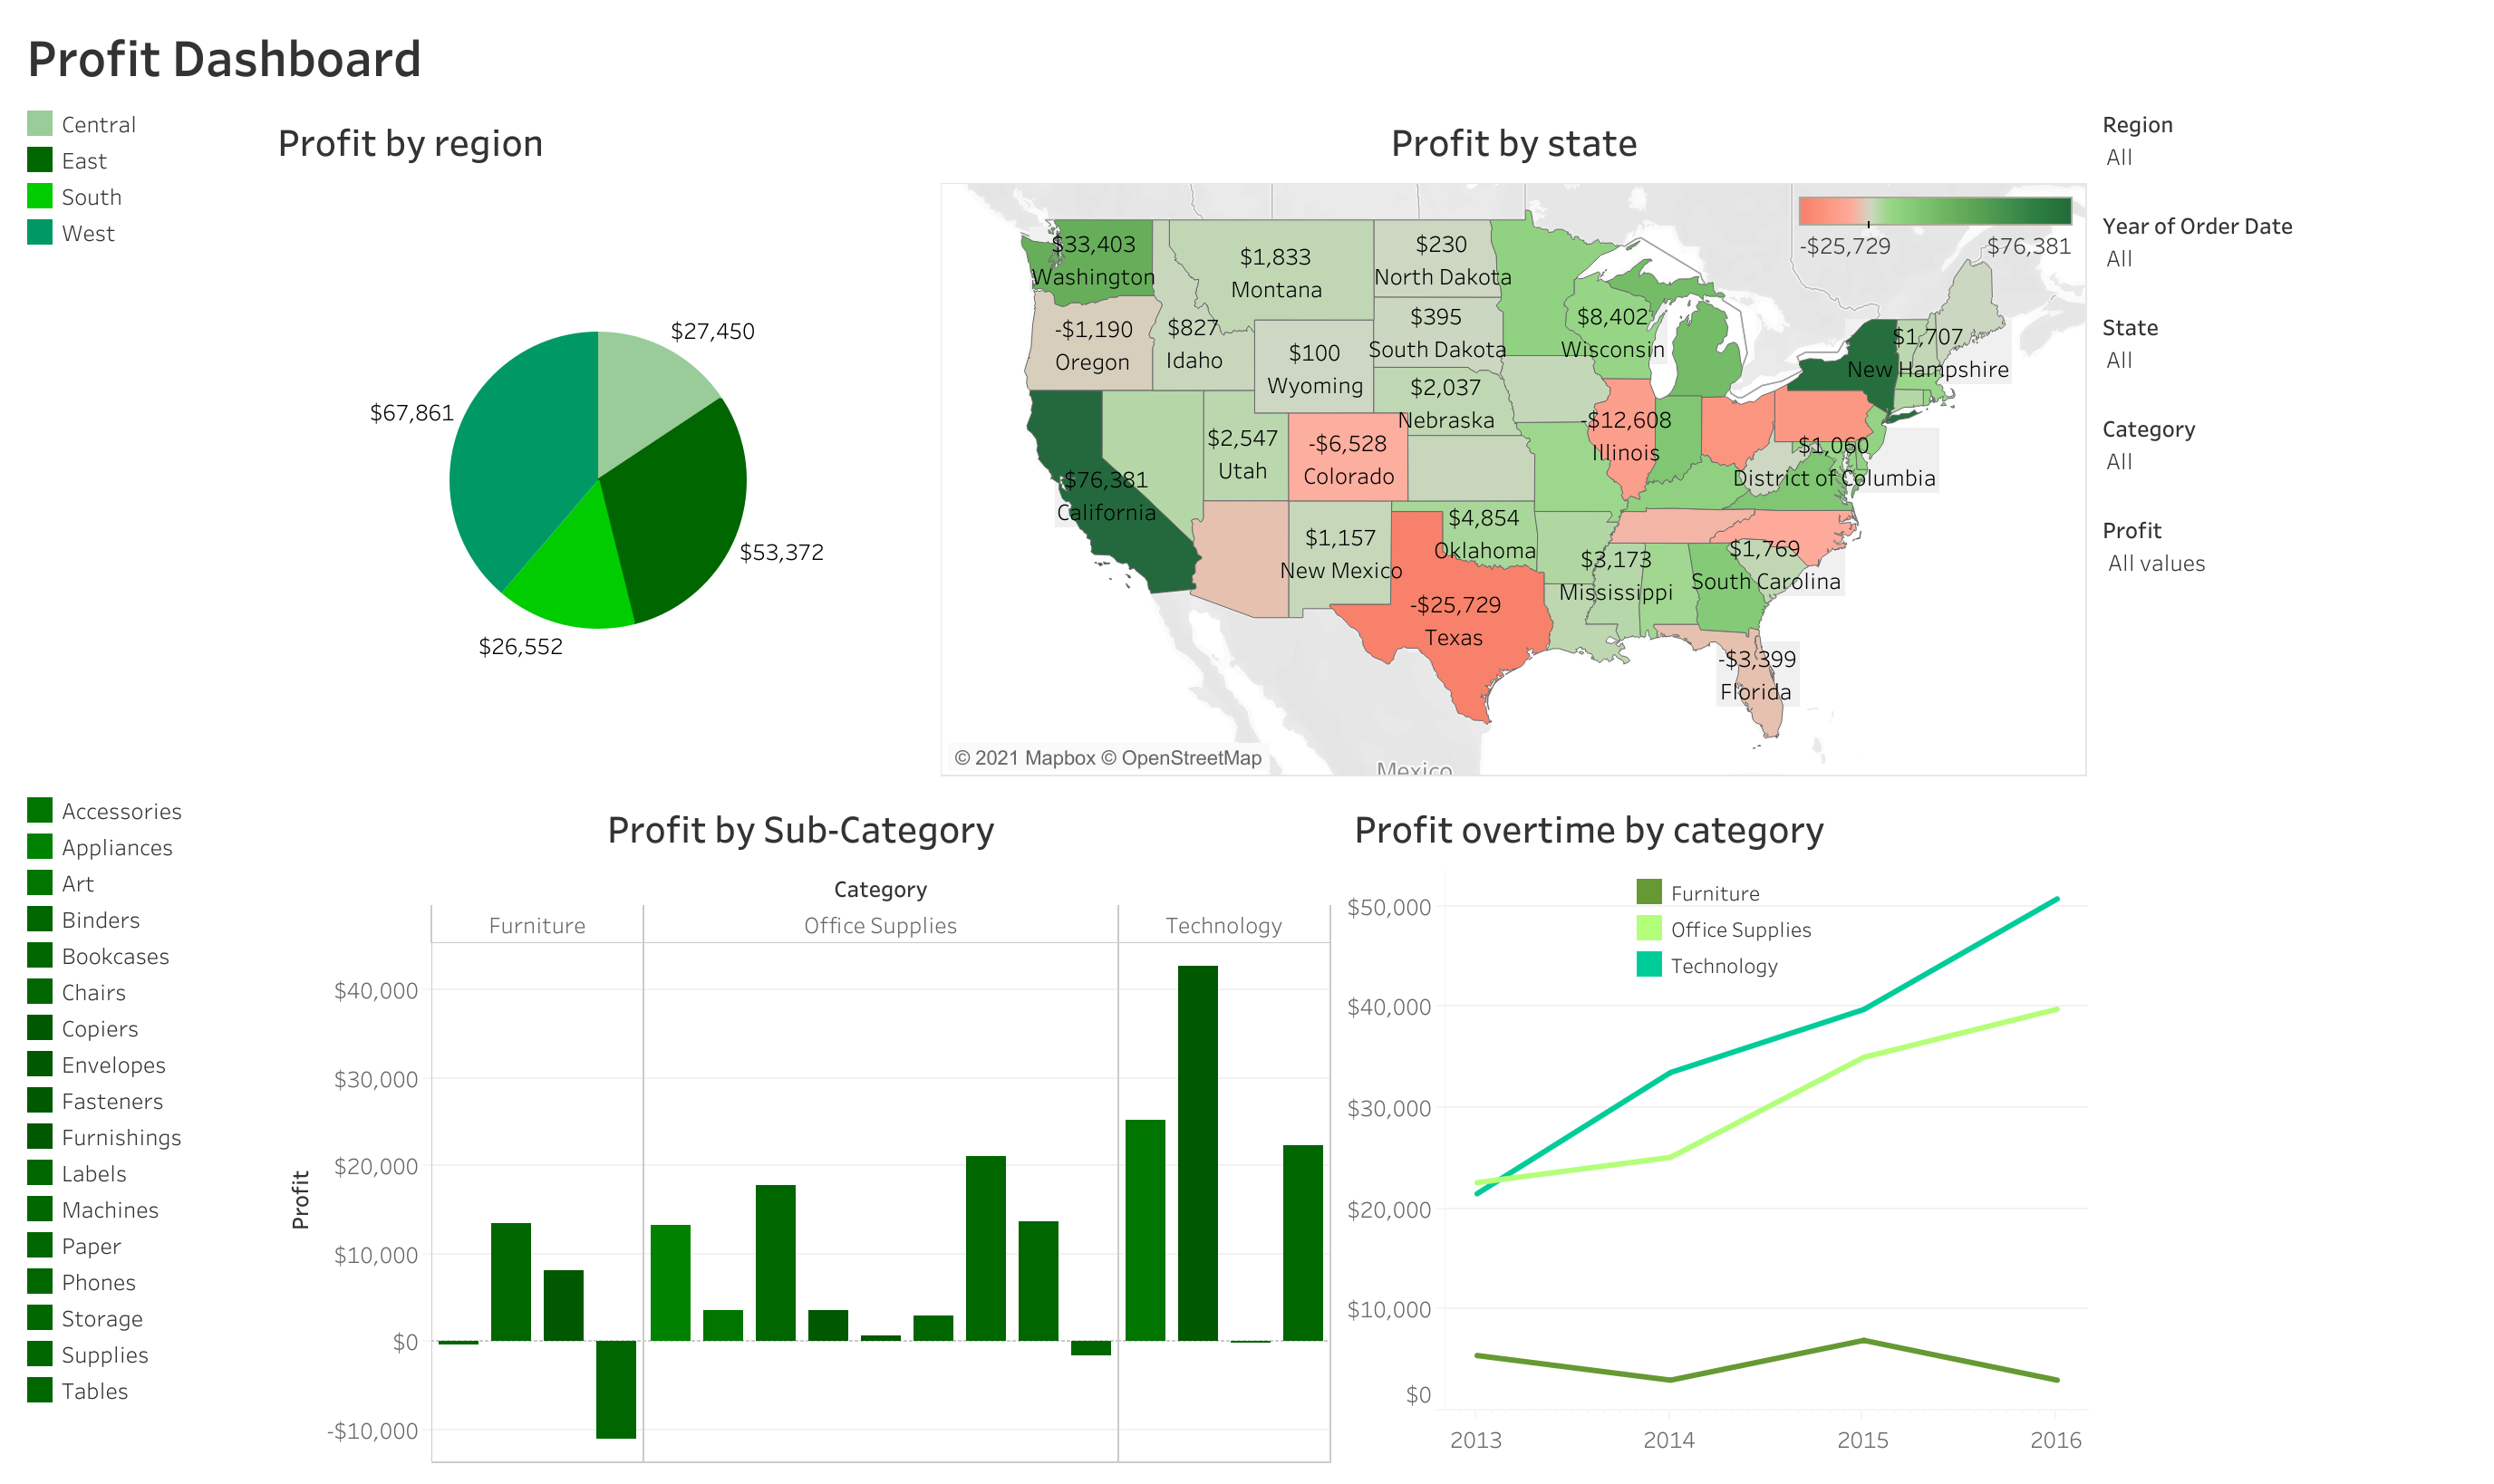

The dashboard page shown, as its layout file describes it:
{"tool":"tableau","page":{"name":"Profit Dashboard","canvas":[1000,1000],"units":"permille","ordinal":2},"visuals":[{"type":"title","box":[6.7,9.8,986.7,54.9]},{"type":"legend","title":"Profit by region","param":"[federated.1ija8d40sle75313g71o6096lhys].[none:Region:nk]","box":[6.7,64.6,99.2,462.8]},{"type":"worksheet","title":"Profit by region","mark":"Pie","box":[105.9,64.6,268.6,462.8]},{"type":"worksheet","title":"Profit by state","mark":"Automatic","box":[374.5,64.6,464.4,462.8]},{"type":"filter","title":"Profit by region","param":"[federated.1ija8d40sle75313g71o6096lhys].[none:Region:nk]","box":[838.9,64.6,154.4,63.4]},{"type":"legend","title":"Profit by state","param":"[federated.1ija8d40sle75313g71o6096lhys].[sum:Profit:qk]","box":[718.5,128.1,115.2,47.6]},{"type":"filter","title":"Profit by region","param":"[federated.1ija8d40sle75313g71o6096lhys].[yr:Order Date:ok]","box":[838.9,128.1,154.4,63.4]},{"type":"filter","title":"Profit by region","param":"[federated.1ija8d40sle75313g71o6096lhys].[none:State:nk]","box":[838.9,191.5,154.4,63.4]},{"type":"filter","title":"Profit by region","param":"[federated.1ija8d40sle75313g71o6096lhys].[none:Category:nk]","box":[838.9,254.9,154.4,63.4]},{"type":"filter","title":"Profit by state","param":"[federated.1ija8d40sle75313g71o6096lhys].[sum:Profit:qk]","box":[838.9,318.3,154.4,84.2]},{"type":"legend","title":"Profit by Sub-Category","param":"[federated.1ija8d40sle75313g71o6096lhys].[none:Sub-Category:nk]","box":[6.7,527.4,99.6,462.8]},{"type":"worksheet","title":"Profit by Sub-Category","mark":"Automatic","rows":["Profit"],"cols":["Category","Sub-Category"],"box":[106.2,527.4,430.4,462.8]},{"type":"worksheet","title":"Profit overtime by category","mark":"Automatic","rows":["Profit"],"cols":["Order Date"],"box":[536.6,527.4,302.3,462.8]},{"type":"legend","title":"Profit overtime by category","param":"[federated.1ija8d40sle75313g71o6096lhys].[none:Category:nk]","box":[653.5,587.8,99.6,73.2]}]}

Visuals, with their boxes on the dashboard's canvas, which has no fixed pixel size, in thousandths of its width and height (x1, y1, x2, y2). These are canvas units, not pixel positions in the 2494x1484 screenshot, which may show the page scaled, cropped or inside an application window:
title: (7, 10, 993, 65)
"Profit by region" legend: (7, 65, 106, 527)
"Profit by region" worksheet (Pie marks): (106, 65, 374, 527)
"Profit by state" worksheet: (374, 65, 839, 527)
"Profit by region" filter: (839, 65, 993, 128)
"Profit by state" legend: (718, 128, 834, 176)
"Profit by region" filter: (839, 128, 993, 192)
"Profit by region" filter: (839, 192, 993, 255)
"Profit by region" filter: (839, 255, 993, 318)
"Profit by state" filter: (839, 318, 993, 402)
"Profit by Sub-Category" legend: (7, 527, 106, 990)
"Profit by Sub-Category" worksheet: (106, 527, 537, 990)
"Profit overtime by category" worksheet: (537, 527, 839, 990)
"Profit overtime by category" legend: (654, 588, 753, 661)
